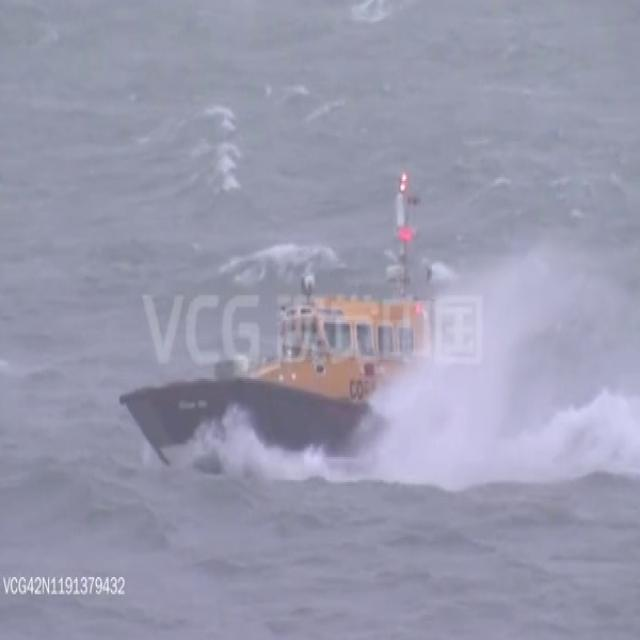houseboat: (117, 208, 495, 483)
